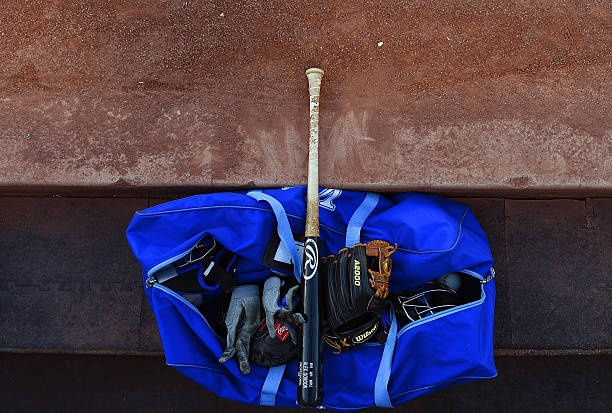bita: (292, 67, 327, 407)
